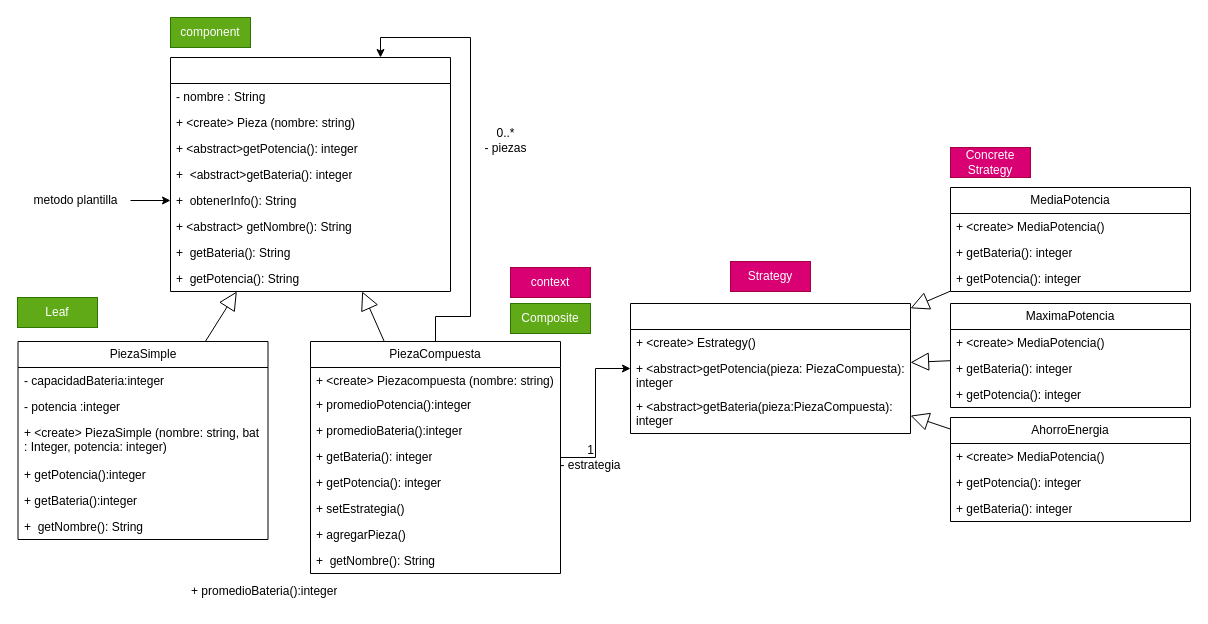
This 1208x624 diagram has some shape labels left out. Here are the shapes that lost their labels. From the top down, the box of each, then its label:
(170, 56, 450, 292): <abstract> P ieza
(630, 302, 910, 434): <abstract> Estrategy
